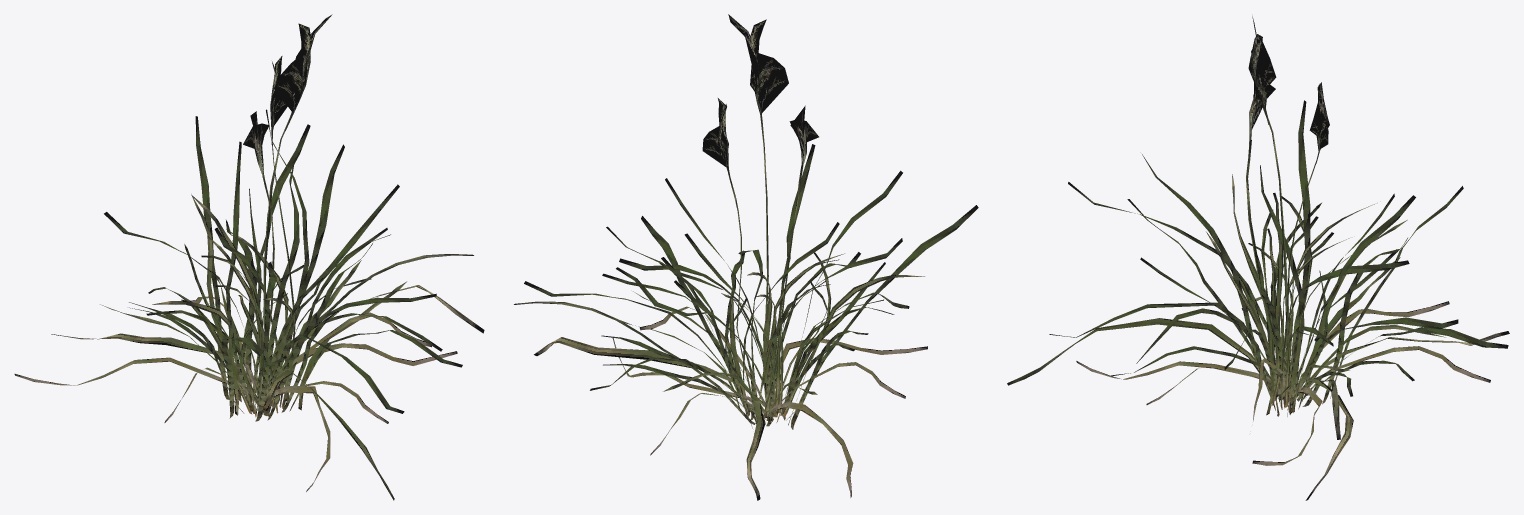
Rendered from natural-grass-weathered.glb.
3 views of the same model, side by side, from view 1: azimuth 30°, elevation 25°; view 2: azimuth 150°, elevation 25°; view 3: azimuth 270°, elevation 25° (orthographic). The views are drawn at different scales.
Parts seen in each view (by area): view 1: natural-grass-weathered runtime mesh; view 2: natural-grass-weathered runtime mesh; view 3: natural-grass-weathered runtime mesh.
Boxes of the visible parts, box(x1,y1,x2,y2) form: natural-grass-weathered runtime mesh: box(14, 14, 484, 500); natural-grass-weathered runtime mesh: box(514, 14, 978, 500); natural-grass-weathered runtime mesh: box(1007, 16, 1509, 500).
Bounding box in the file's own units: 0.4649 × 0.44 × 0.4977.
Materials: 1 (1 with a texture image).
